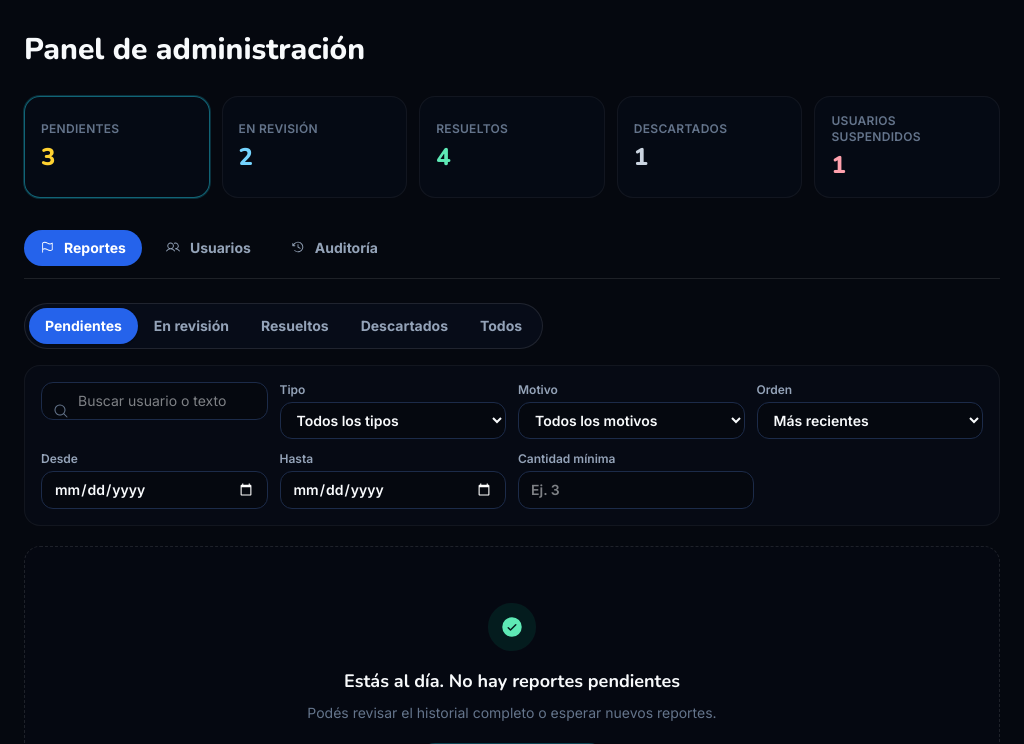
Test: AdminPanel › consulta pendientes inicialmente y usa las estadísticas como filtros
Expected: the heading "Estás al día. No hay reportes pendientes" is shown, [344,667,680,695]
Click the button "En revisión 2": (314, 147) [222,96,407,198]
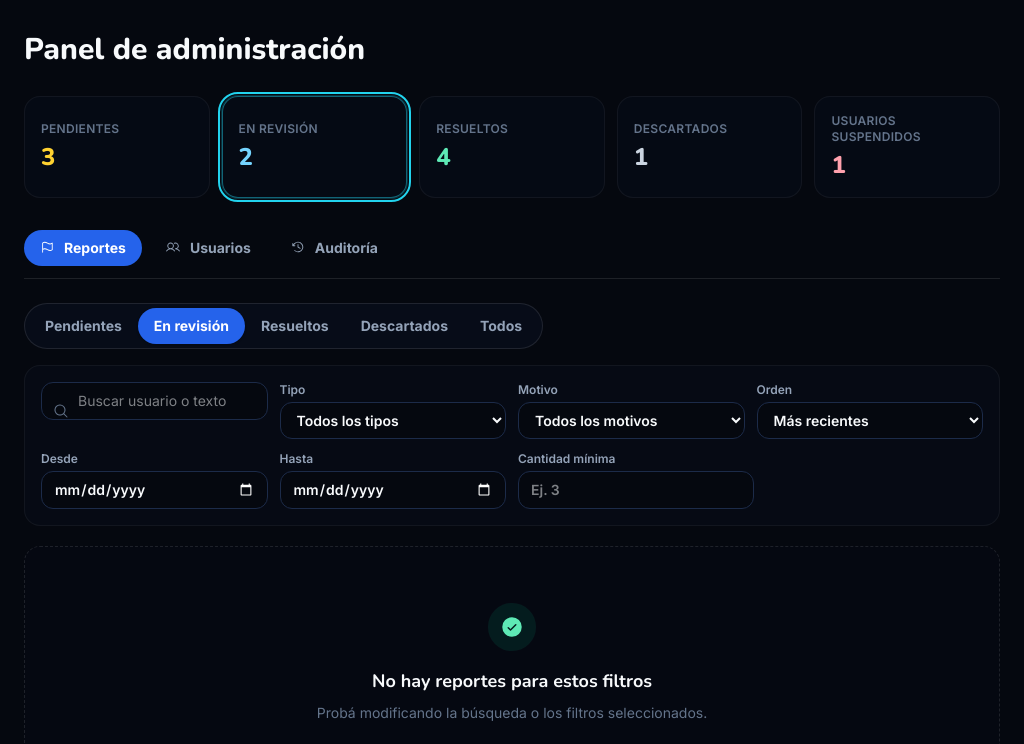
Click the button "Usuarios suspendidos 1": (907, 147) [814,96,1000,198]
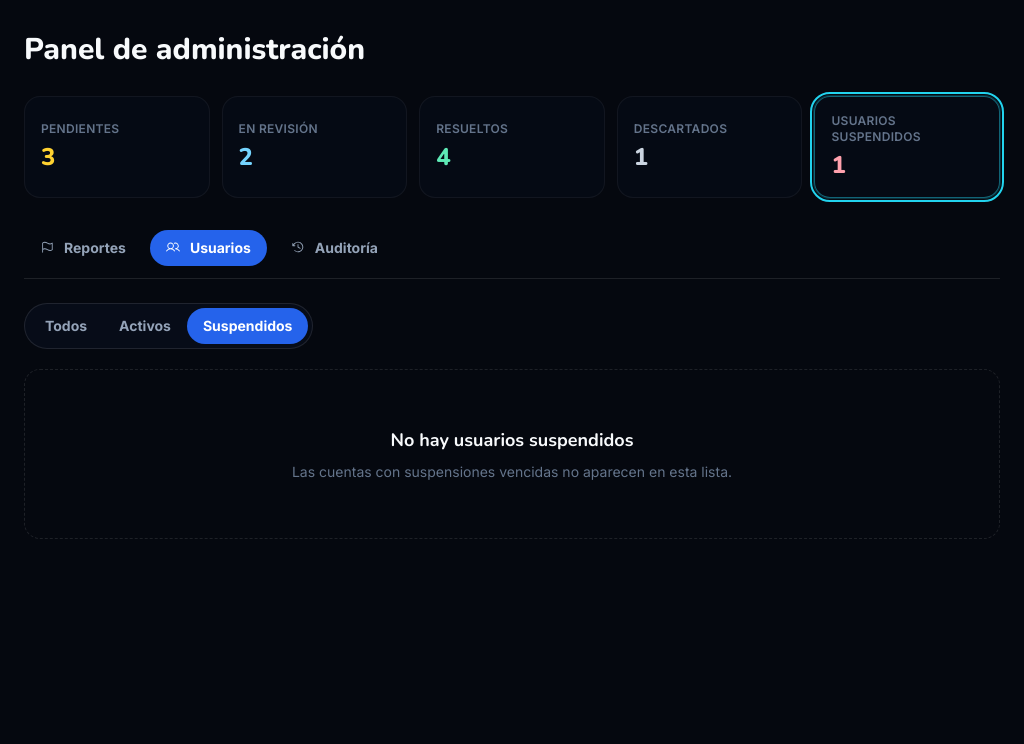
Result: the heading "No hay usuarios suspendidos" is shown at [390,428,633,452]
